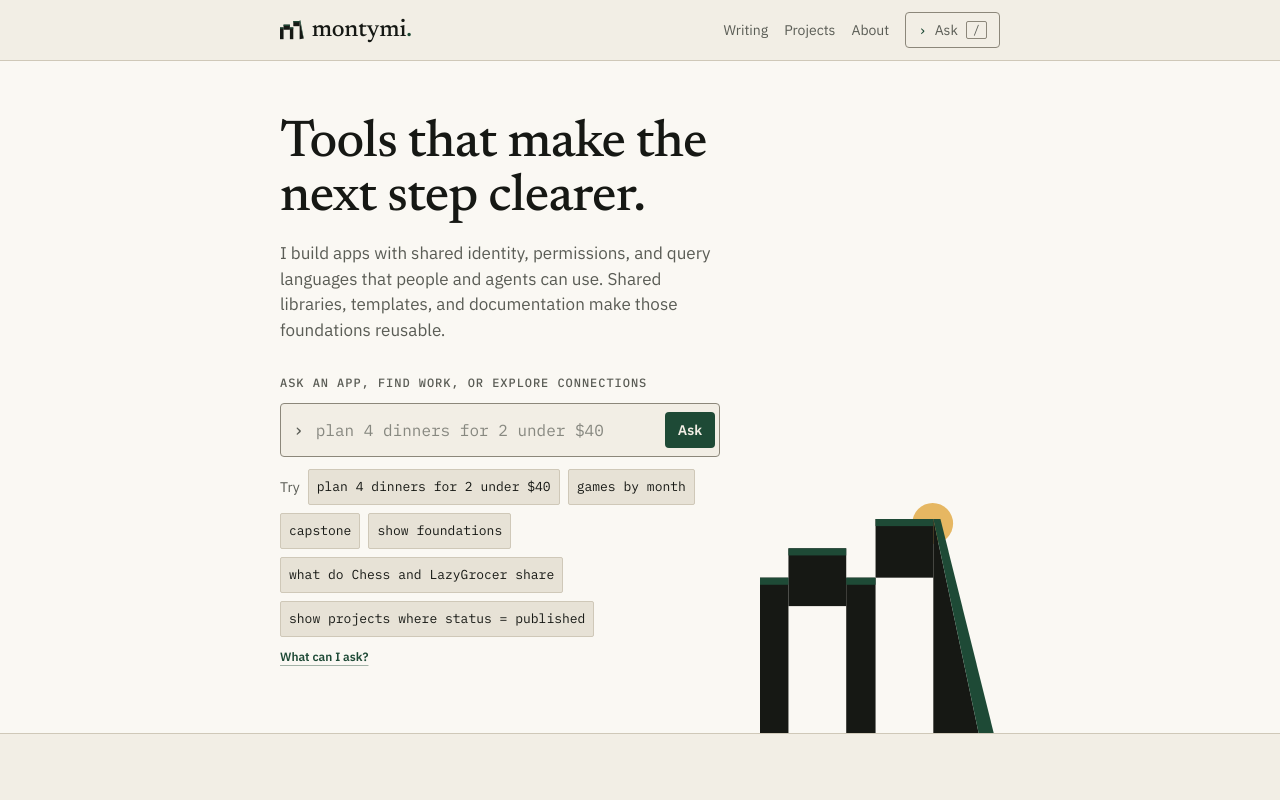
it: the search bar returns actual dependency matches with explanations
Type "what uses authkit" into the dropdown at x=484, y=430, box [316,408,653,452]
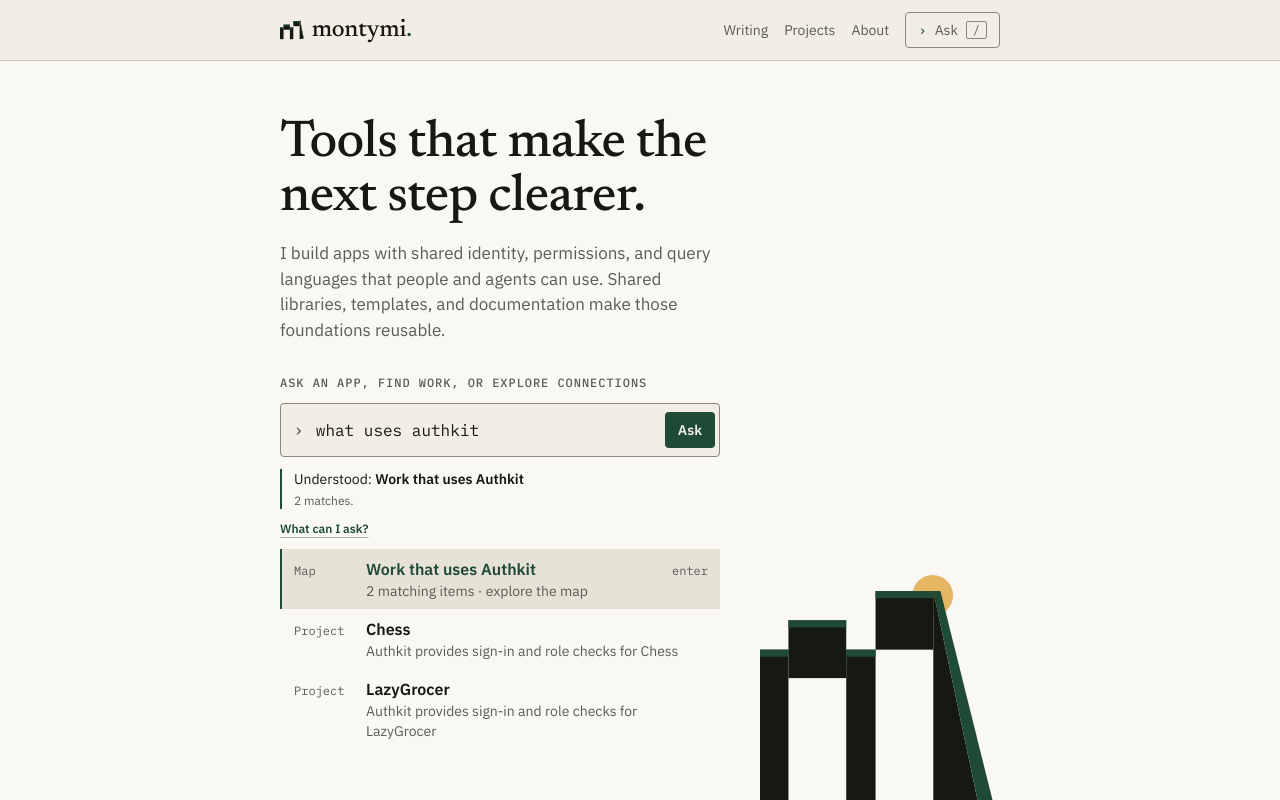
Check: the option "Chess" shows "Authkit provides sign-in and role checks for Chess", box [280,609,720,669]
Check: the option "LazyGrocer" is shown, box [294,679,637,740]
Check: the message shows "2 matches", box [294,493,354,508]
